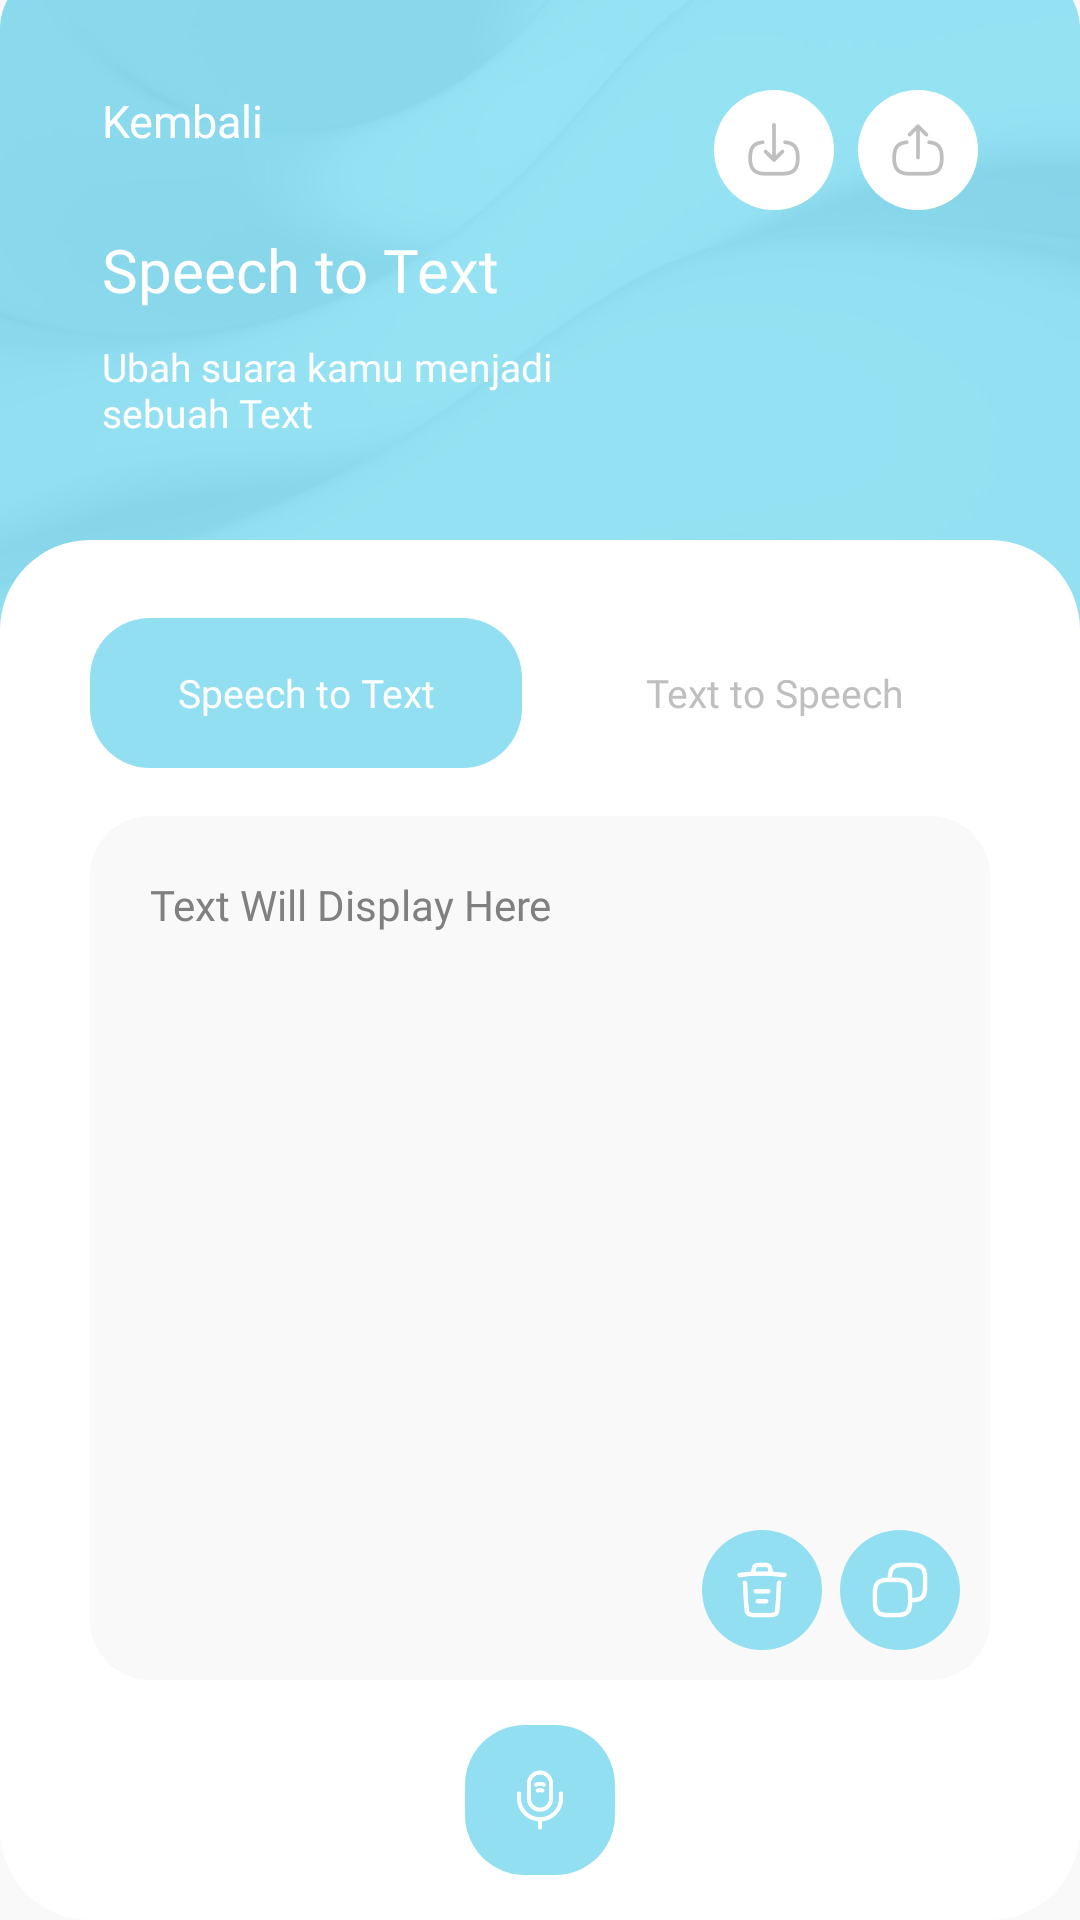

Icons on this 1080 × 1920 Android screen, each with the point to tap as (x=x, y=y):
delete: (x=762, y=1590)
download: (x=774, y=149)
mic: (x=540, y=1800)
upload: (x=918, y=150)
